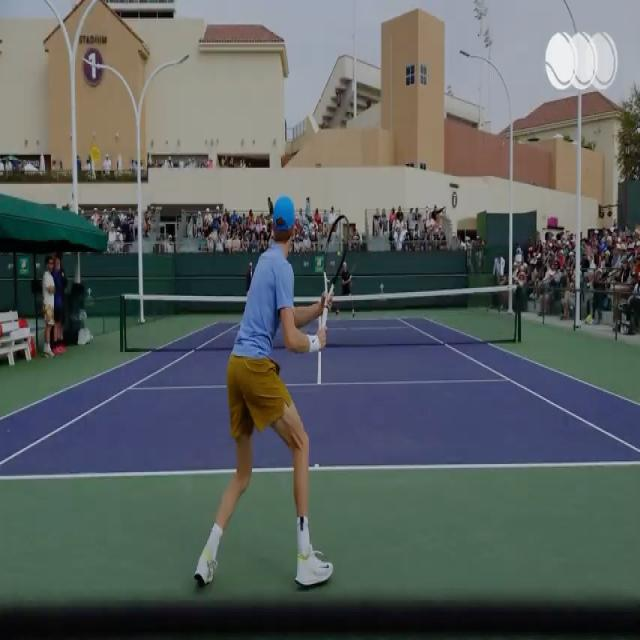forehand-ready: (194, 200, 356, 588)
